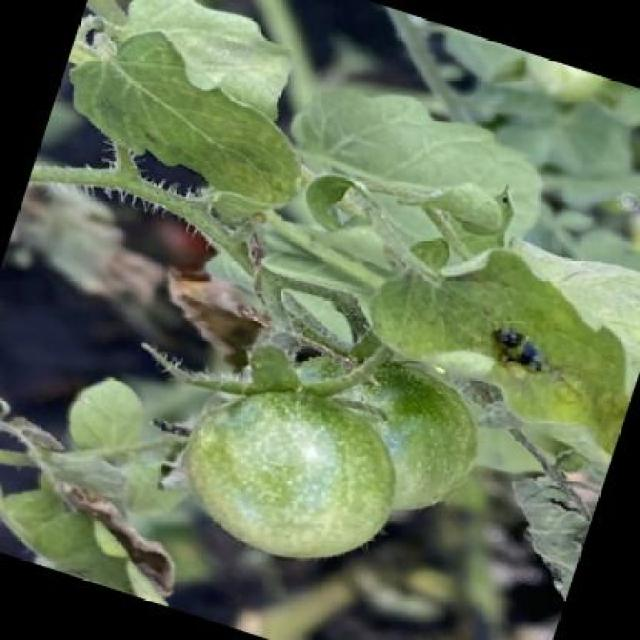unripe tomato: (244, 320, 501, 529), (162, 362, 404, 580)
